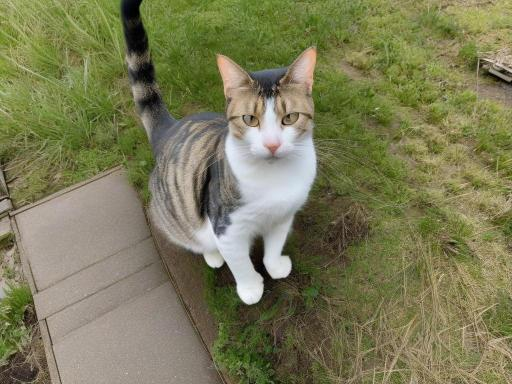cat_sitting: (121, 0, 316, 304)
